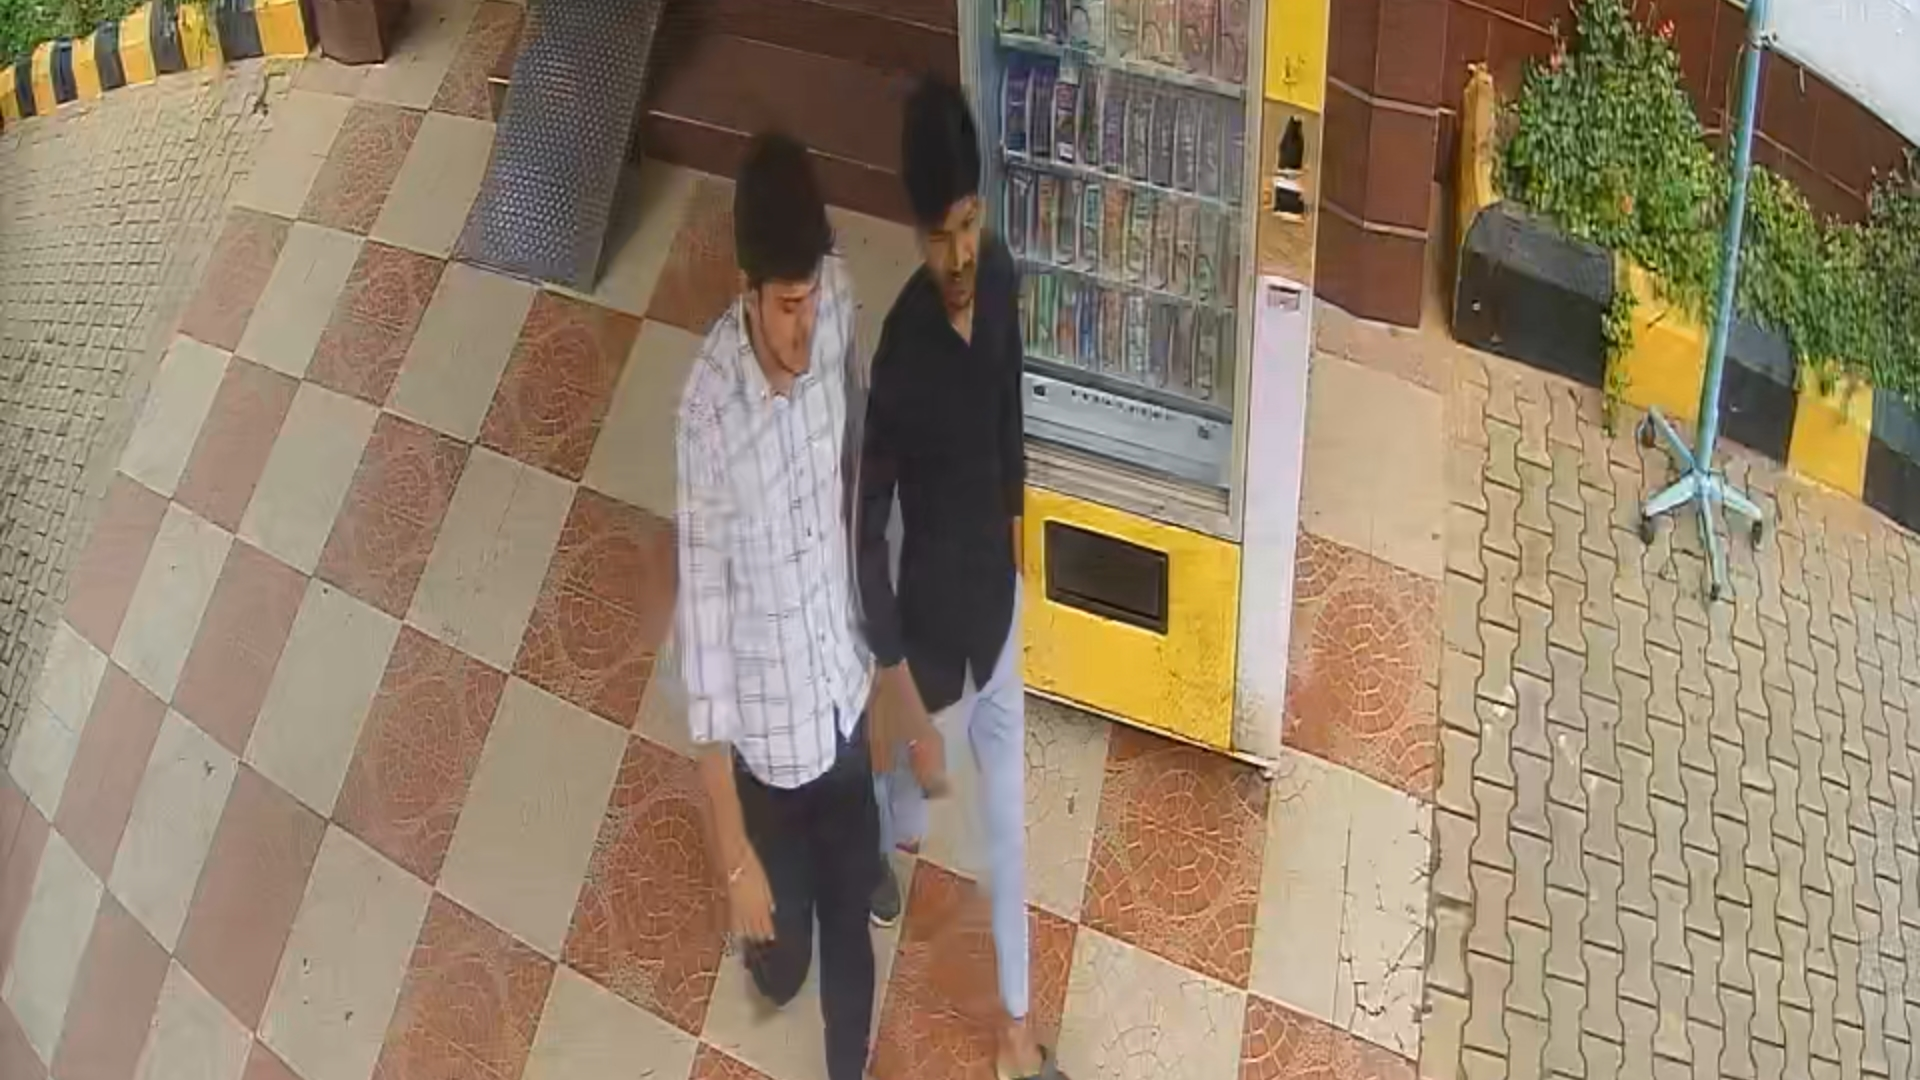intruder: (684, 105, 915, 1080), (868, 76, 1060, 1080)
